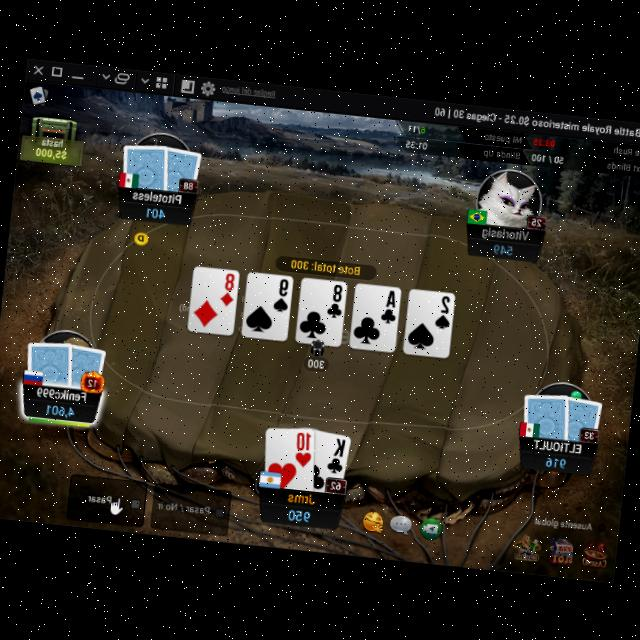2s: (432, 290, 453, 330)
3c: (325, 278, 346, 318)
8c: (326, 279, 346, 318)
8d: (218, 268, 238, 306)
8s: (272, 277, 292, 313)
Ac: (378, 284, 400, 322)
Kc: (324, 431, 347, 472)
Th: (292, 426, 315, 466), (292, 426, 314, 466)
bet_text: (306, 352, 326, 368)
card_back: (118, 134, 173, 190), (22, 334, 76, 388), (519, 385, 572, 439), (61, 338, 108, 391), (558, 390, 604, 442), (158, 141, 204, 192)
dealer: (132, 230, 151, 248)
pot_text: (288, 254, 362, 272)
stack_text: (45, 399, 76, 416), (286, 502, 314, 520), (491, 240, 514, 256), (544, 455, 568, 470), (145, 204, 166, 218)
